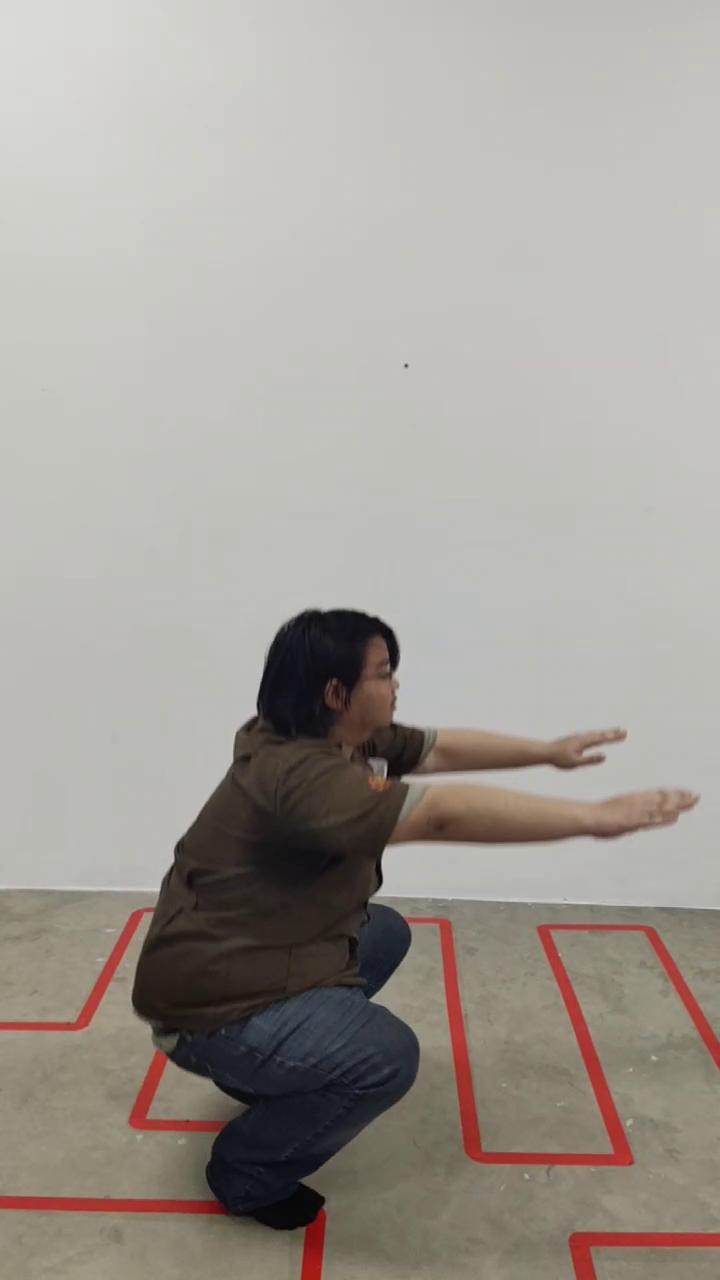squat down: (132, 609, 672, 1246)
